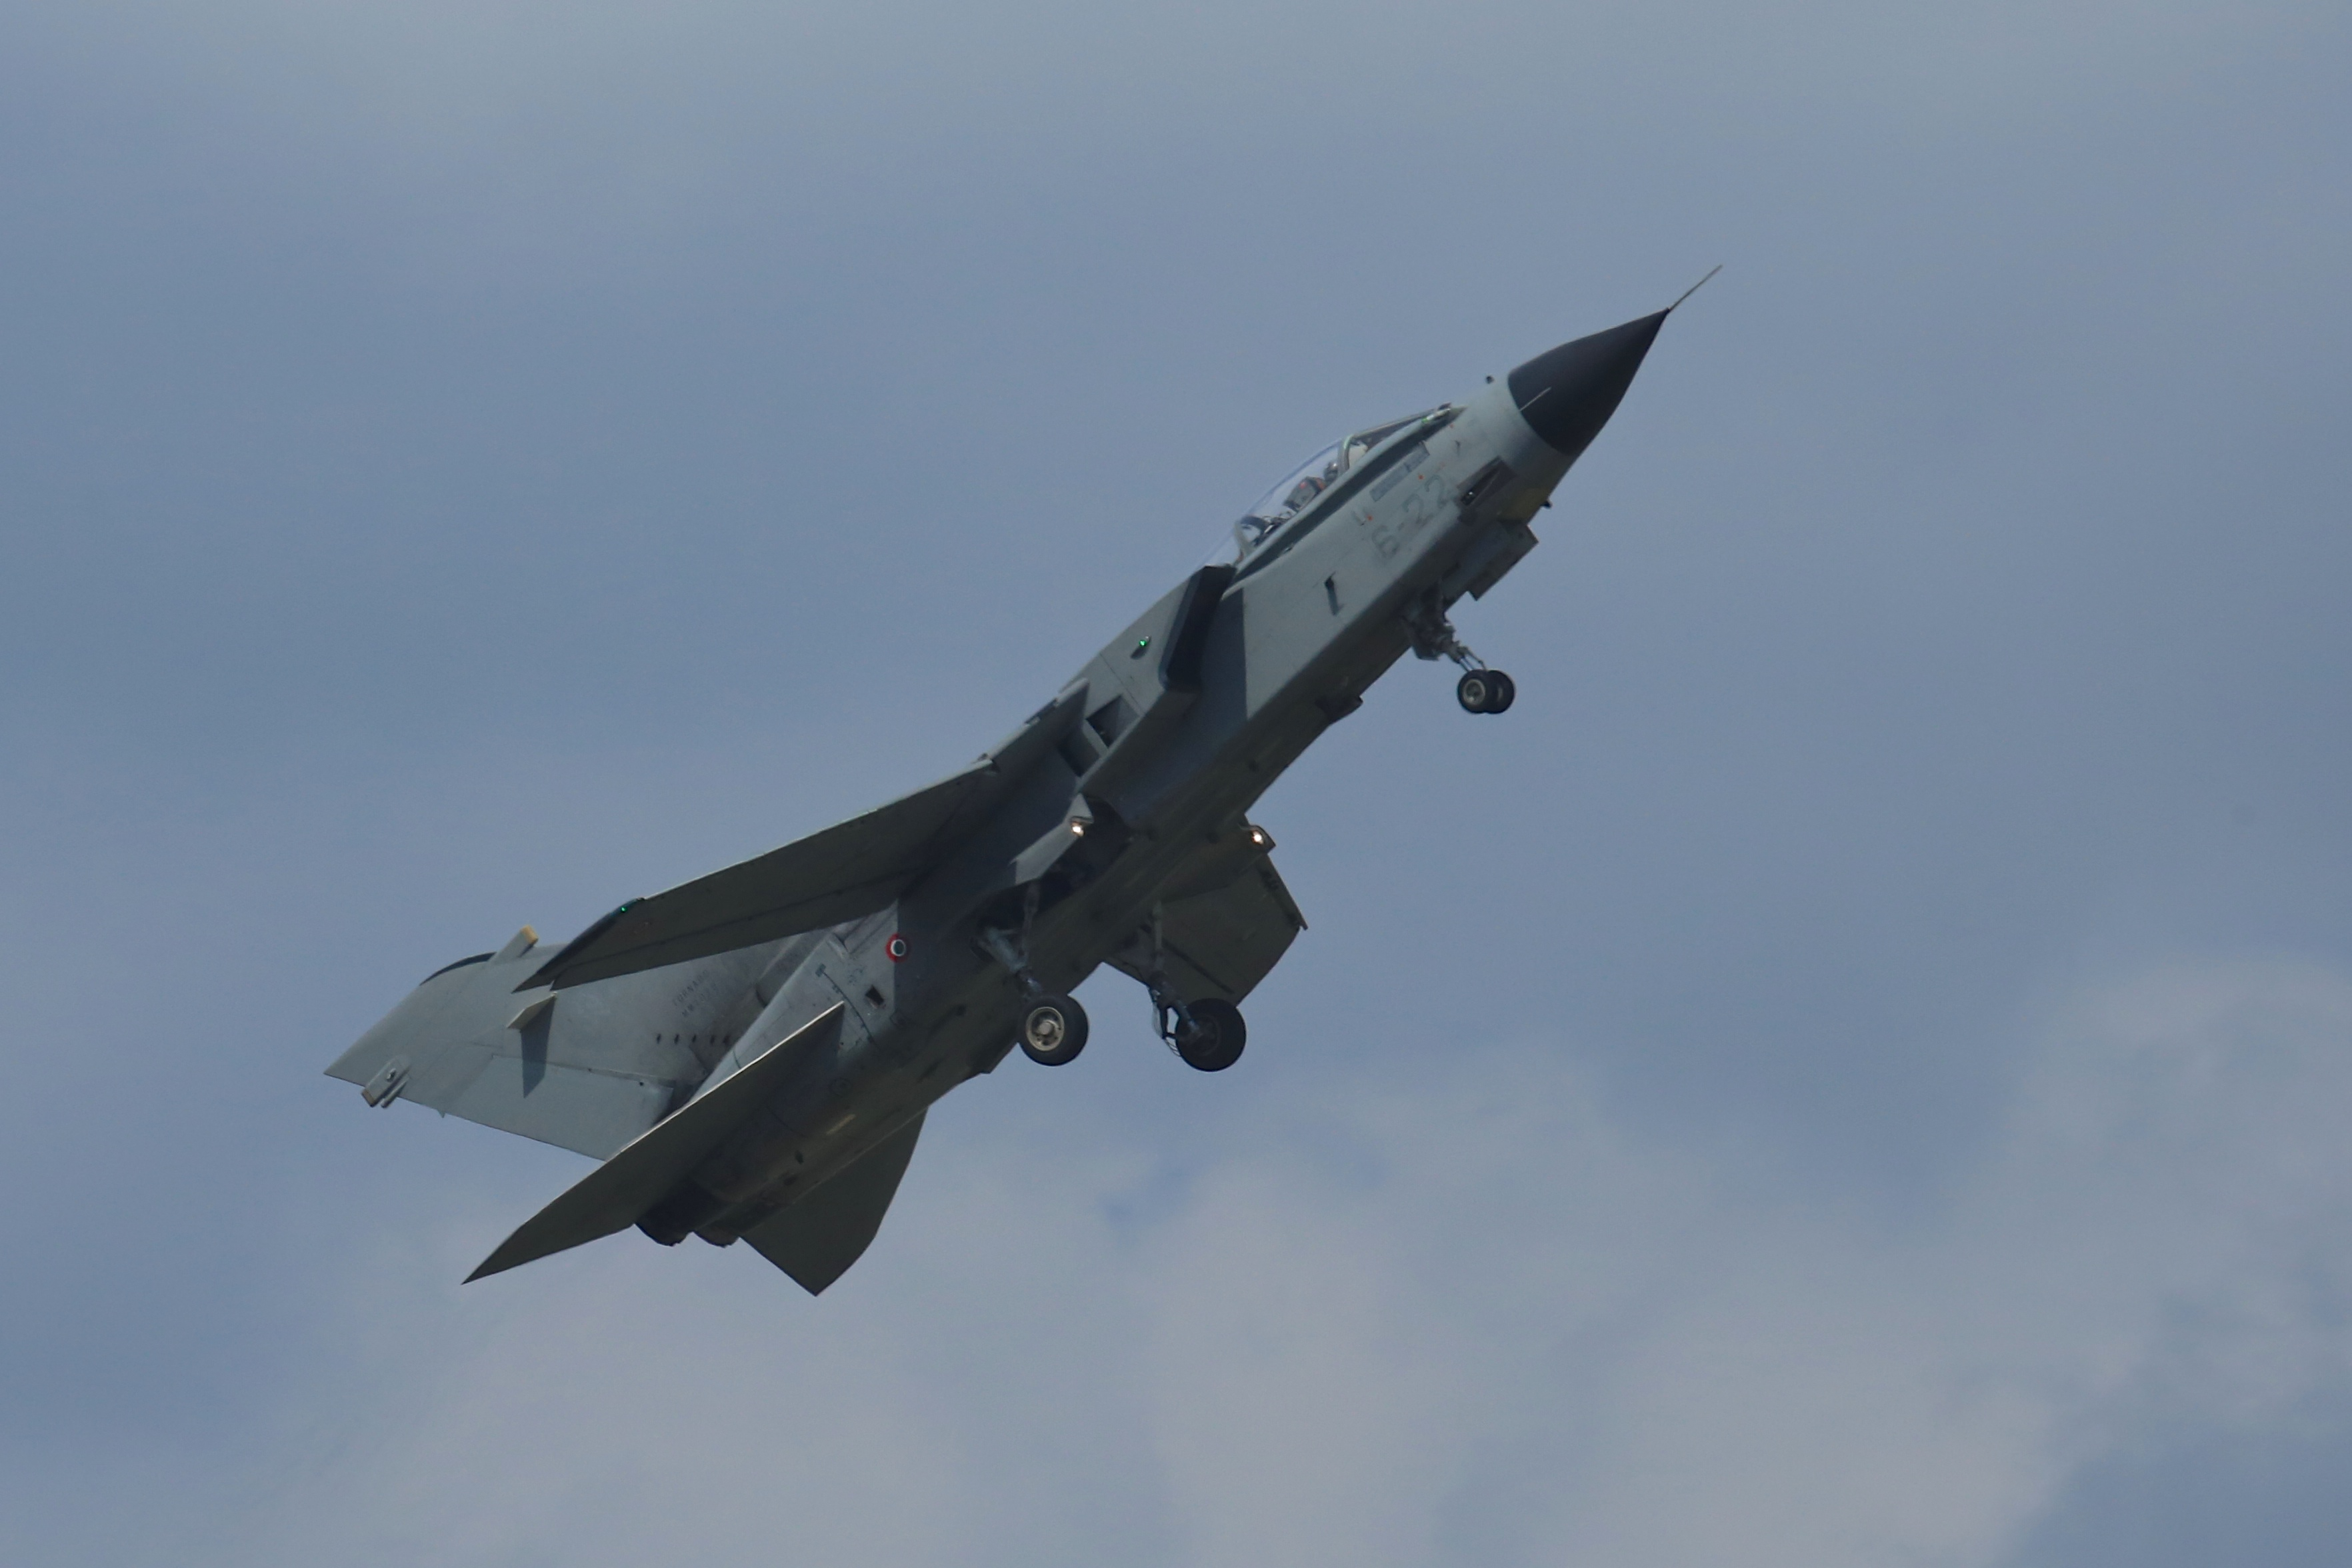Tornado: (322, 264, 1724, 1298)
